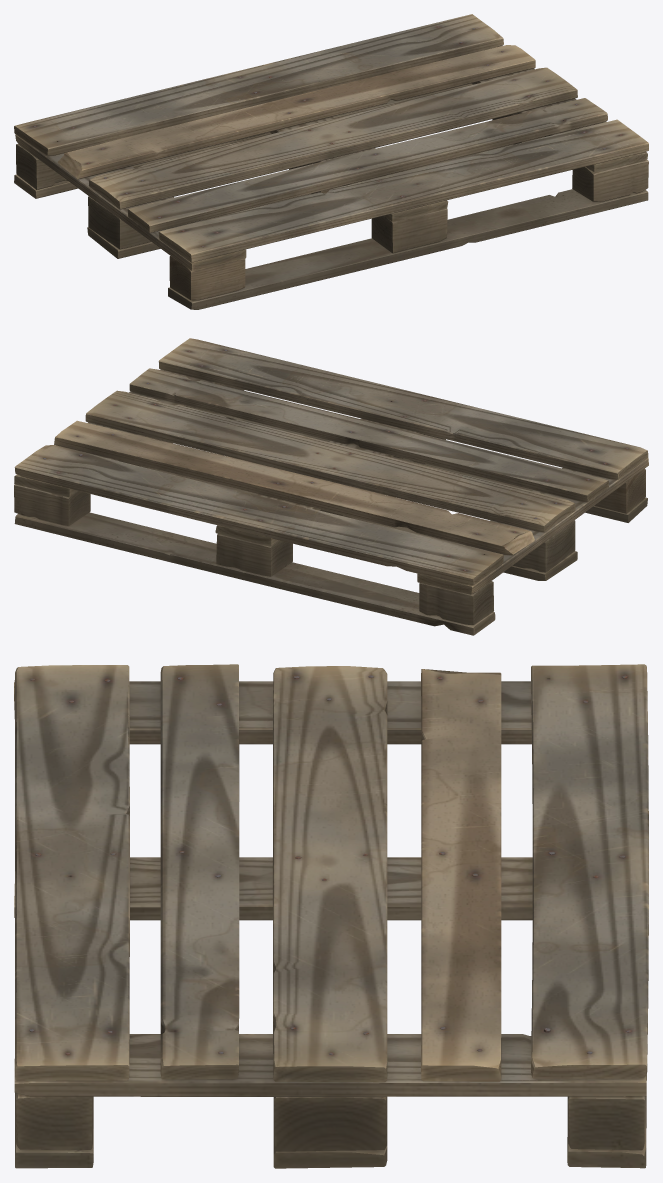
The model's file is pallet_worn_brown.glb.
3 views of the same model, one above another, from view 1: azimuth 30°, elevation 25°; view 2: azimuth 150°, elevation 25°; view 3: azimuth 270°, elevation 25° (orthographic). The views are drawn at different scales.
Visible parts, largest first — view 1: pallet-worn-brown; view 2: pallet-worn-brown; view 3: pallet-worn-brown.
Part boxes in pixels (box(x1,y1,x2,y2)): pallet-worn-brown: box(14, 14, 648, 309); pallet-worn-brown: box(14, 338, 648, 635); pallet-worn-brown: box(14, 664, 648, 1168).
Size of the model in its own units: 1.21 by 0.1496 by 0.8047.
1 material, 1 textured.
